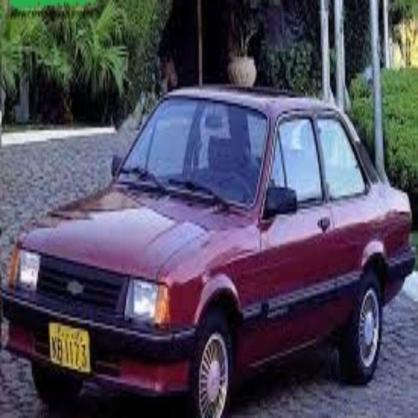car: (7, 85, 417, 417)
